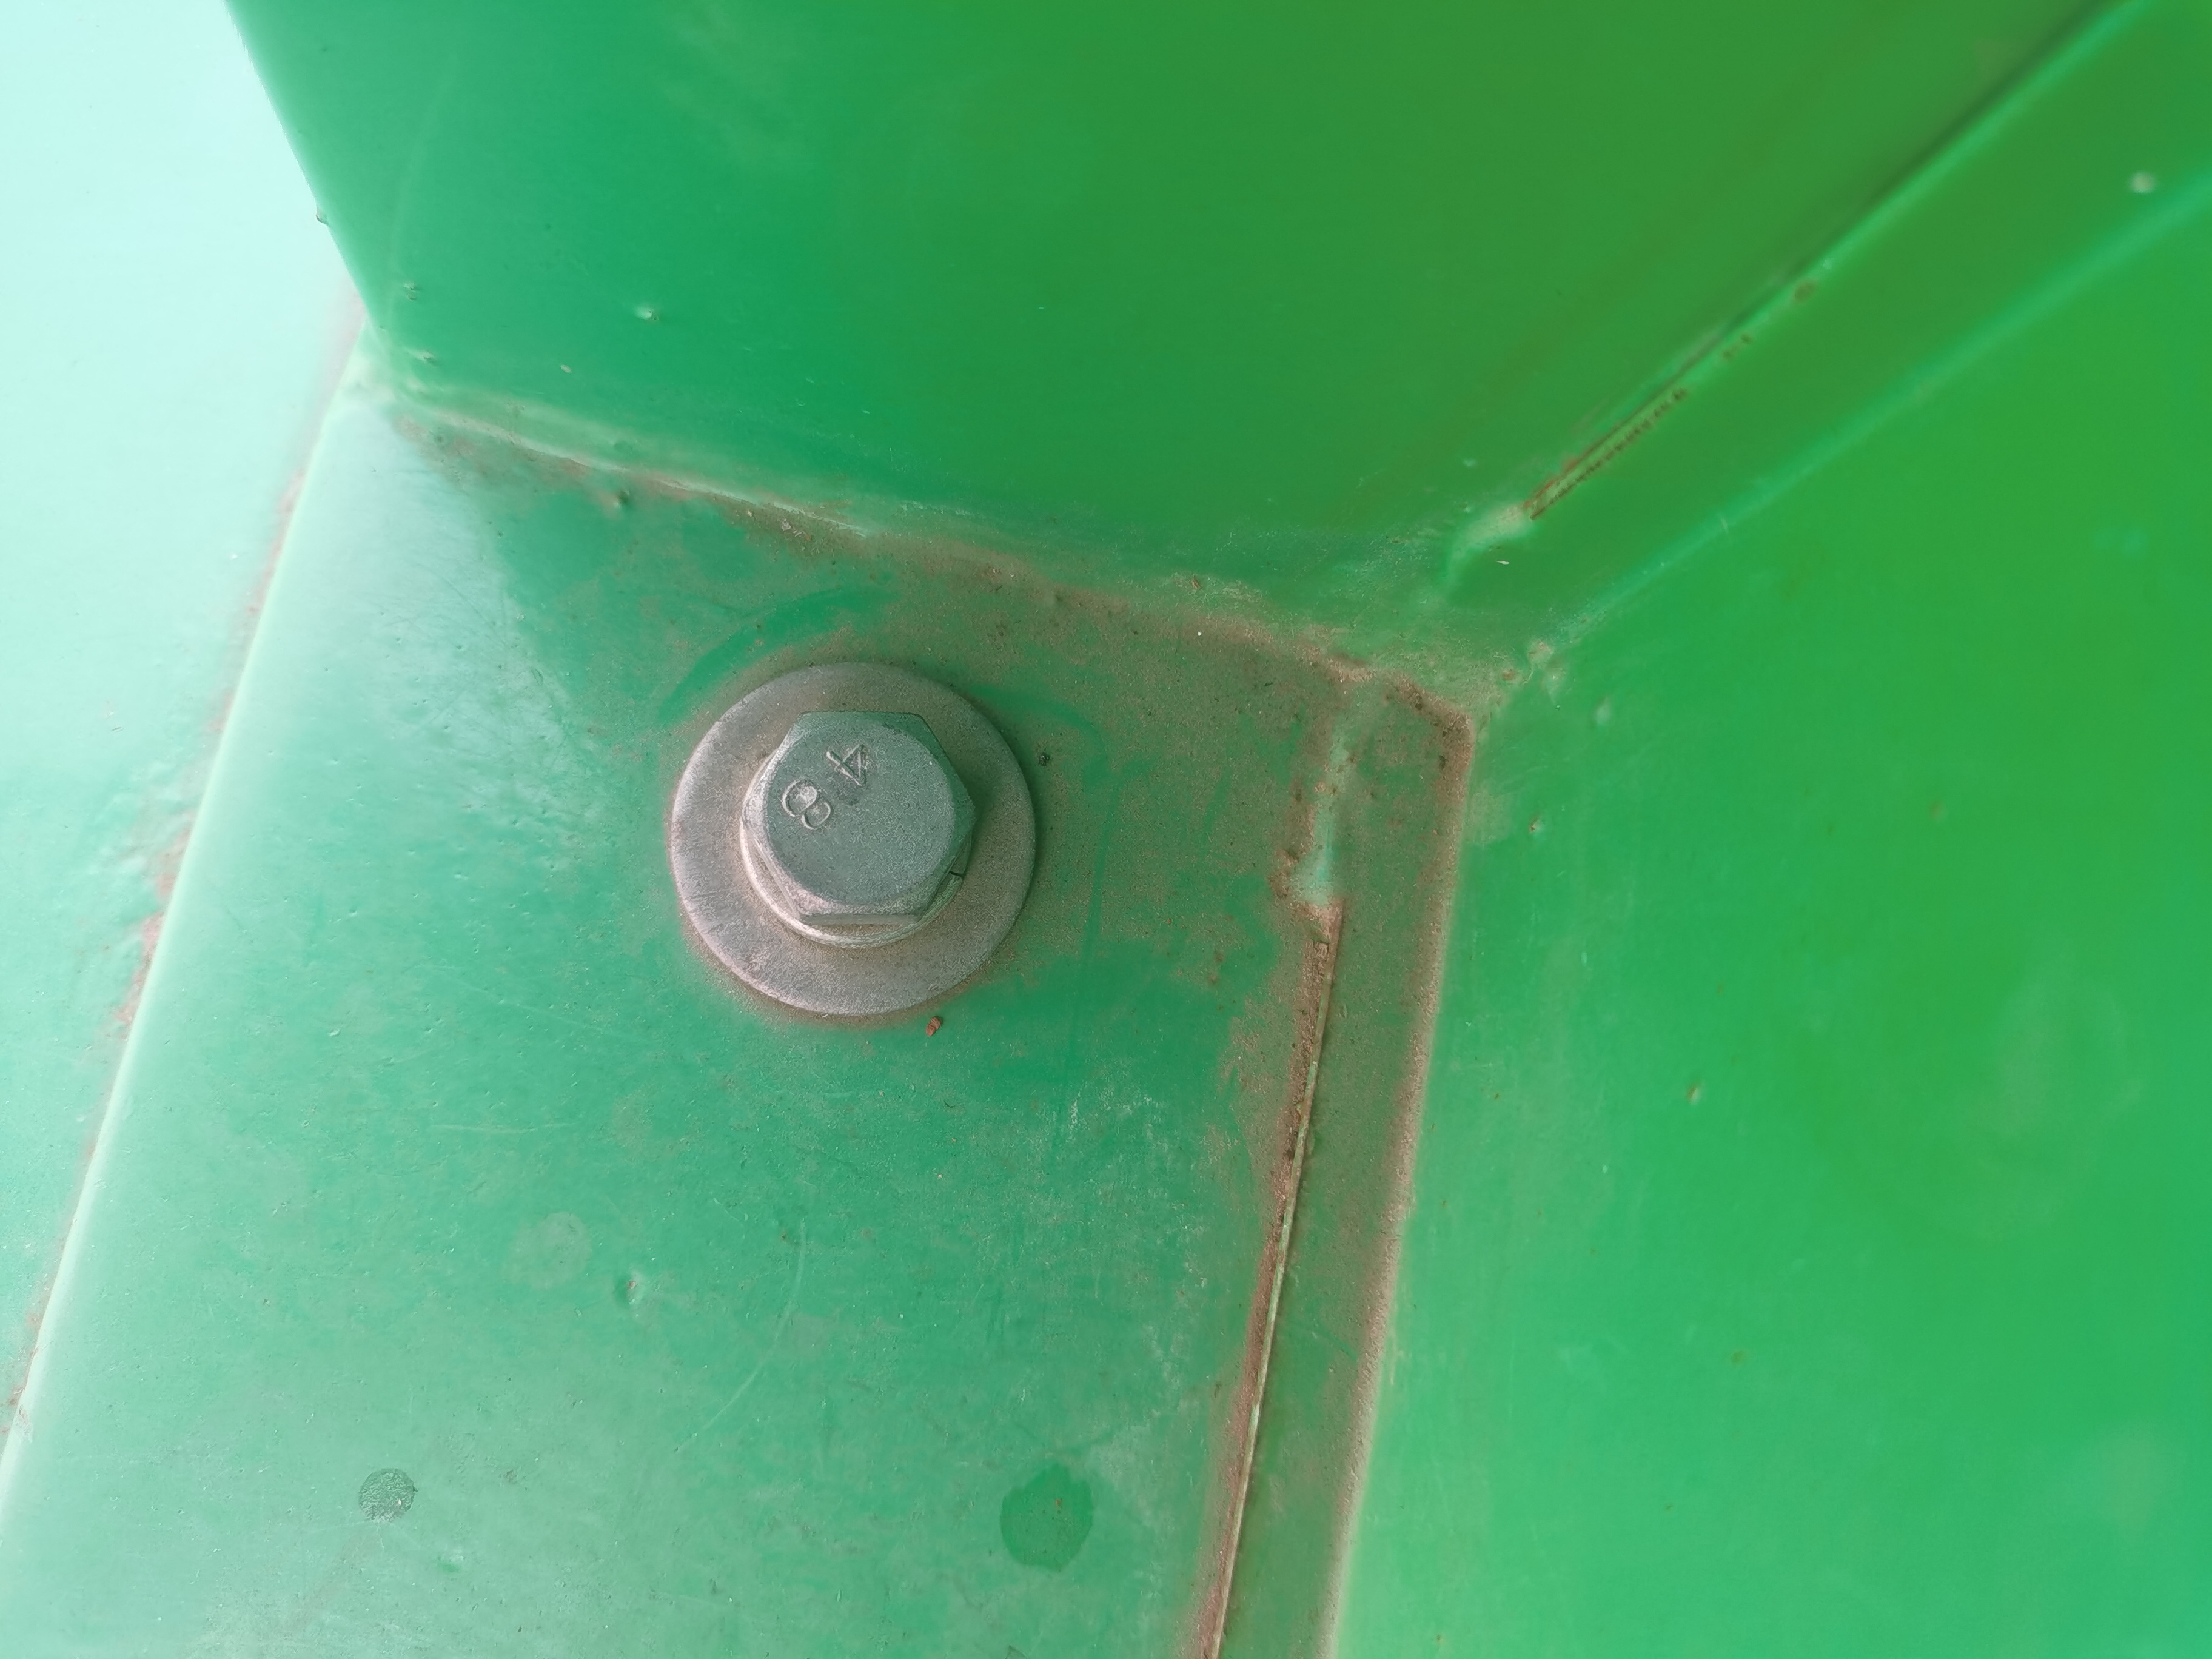bolt_a: (737, 695, 986, 936)
